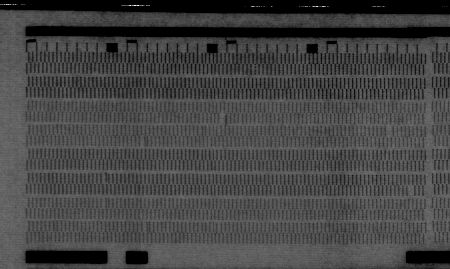Broken hole: (216, 113, 229, 127), (404, 185, 418, 198), (383, 127, 395, 139)
Oblique printing: (140, 220, 152, 232), (138, 136, 149, 149), (99, 173, 110, 185)
